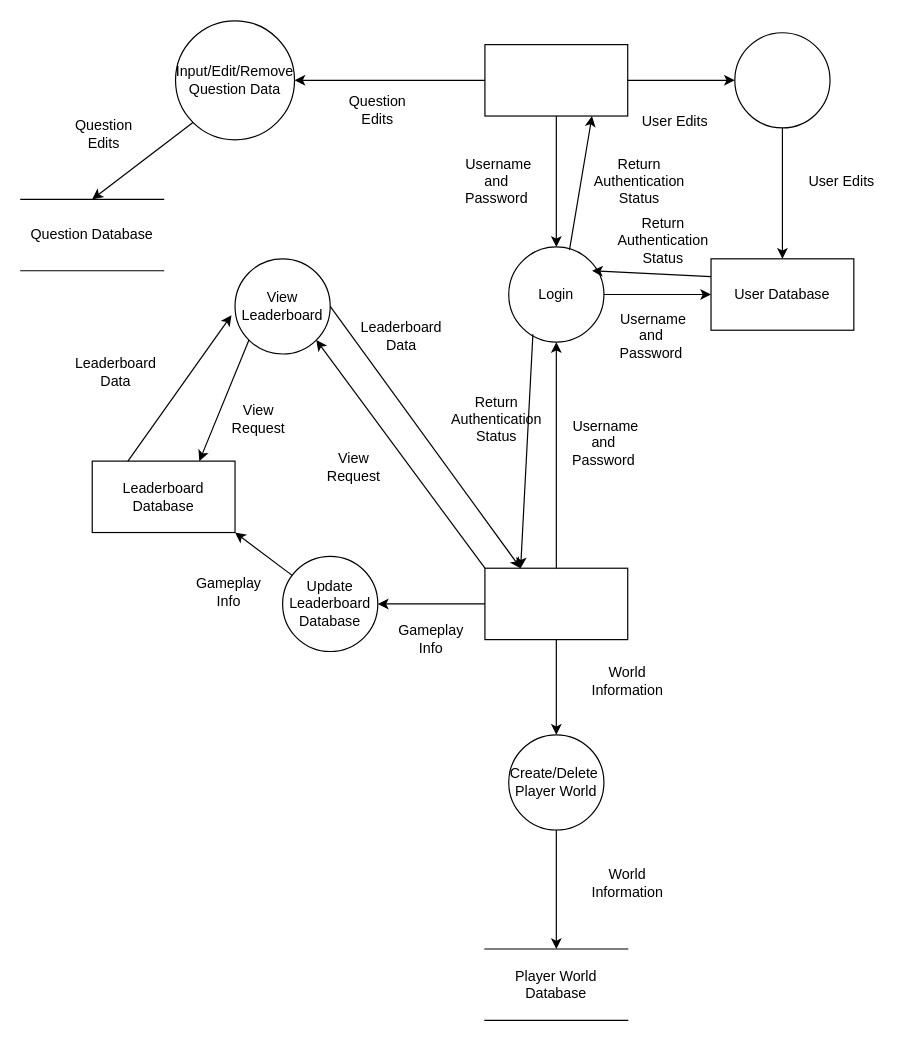
The diagram is 898 pixels wide and 1041 high, and some of its shapes have lost their labels. The box of each missing label's shape, as (x1, y1, x2, y2) in pixels:
Add/Remove Users: (734, 32, 830, 128)
Admin: (484, 43, 628, 116)
Student: (484, 567, 628, 640)
